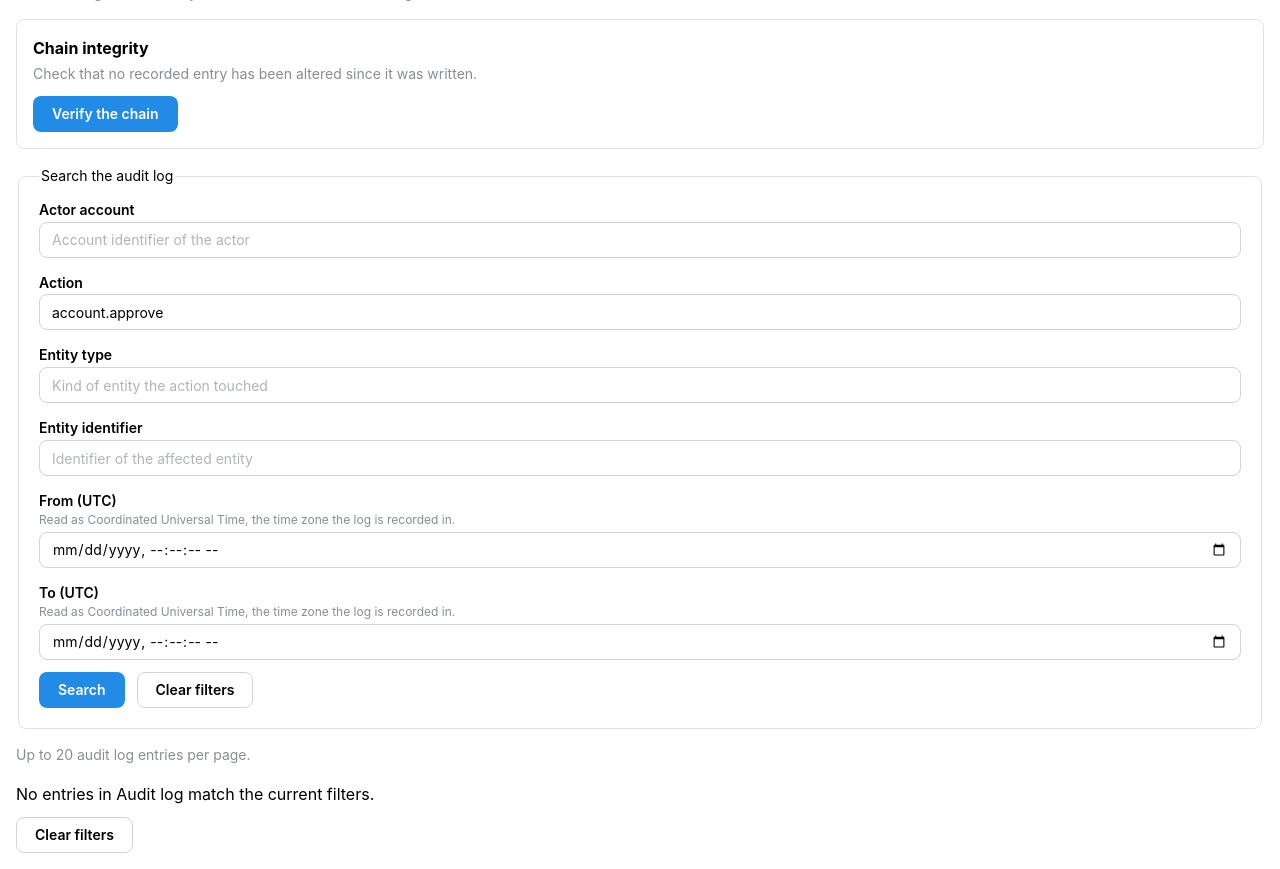
Test: the filter controls (Req 17 AC2) › retains the applied values on an empty page and clears them together
(page scrolled)
Expected: the message "No entries in Audit log match the current filters. Clear filters" is shown, left=16, top=784, right=374, bottom=852
Expected: the message with test id "empty-state" shows "match the current filters", left=16, top=784, right=374, bottom=804
Click the button with test id "empty-state-clear-filters" at (74, 834), box left=16, top=816, right=133, bottom=852
(page scrolled)
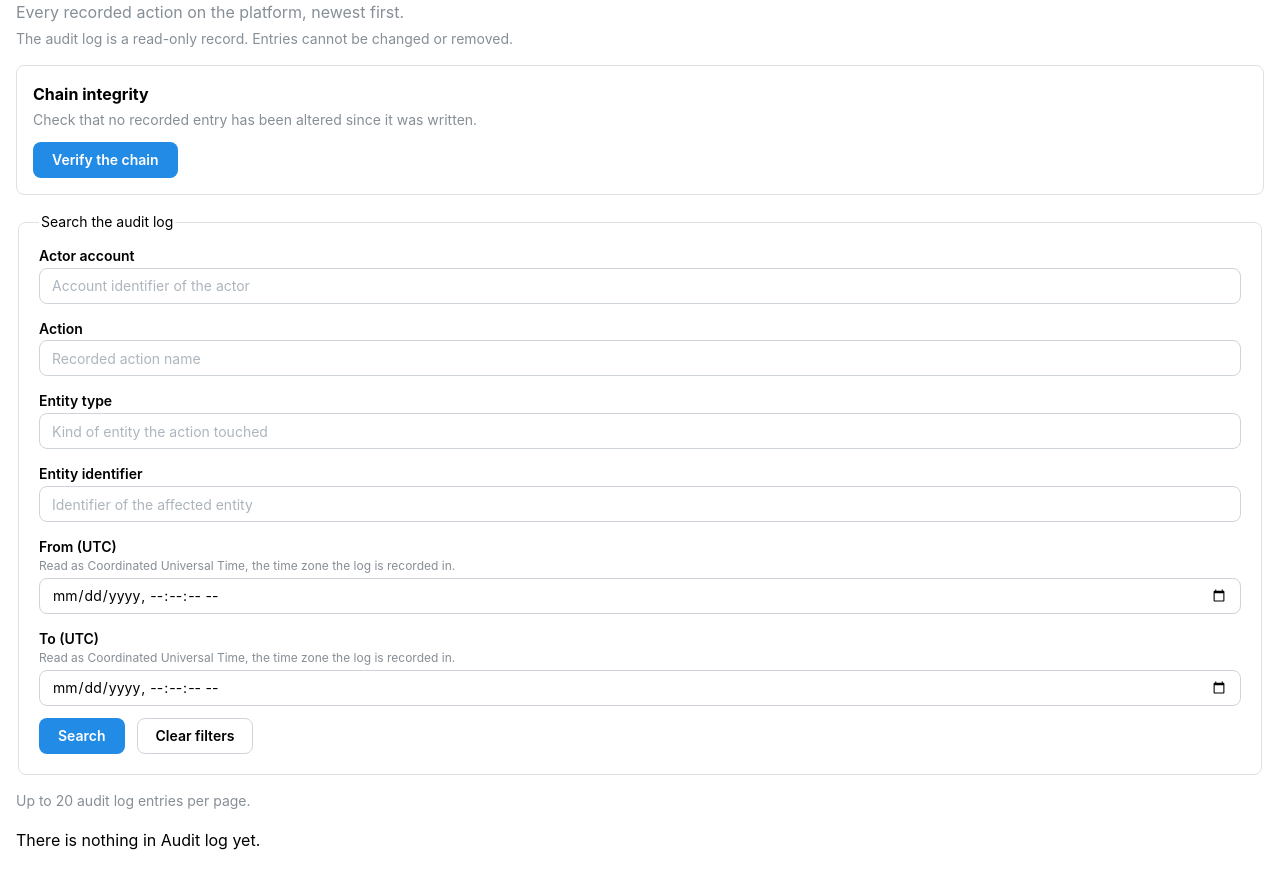
Result: the field with test id "audit-filter-action" is empty at left=39, top=340, right=1241, bottom=376
Result: the message with test id "empty-state" no longer shows "match the current filters" at left=16, top=830, right=260, bottom=850
